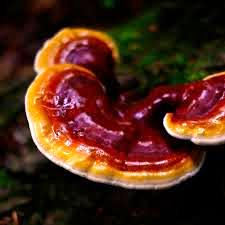Ganoderma - Fruit Body: (26, 26, 225, 191)
